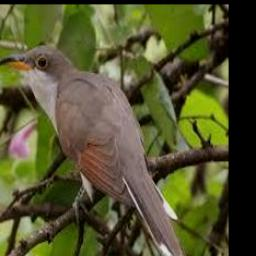Cuckoo: (0, 45, 187, 256)
